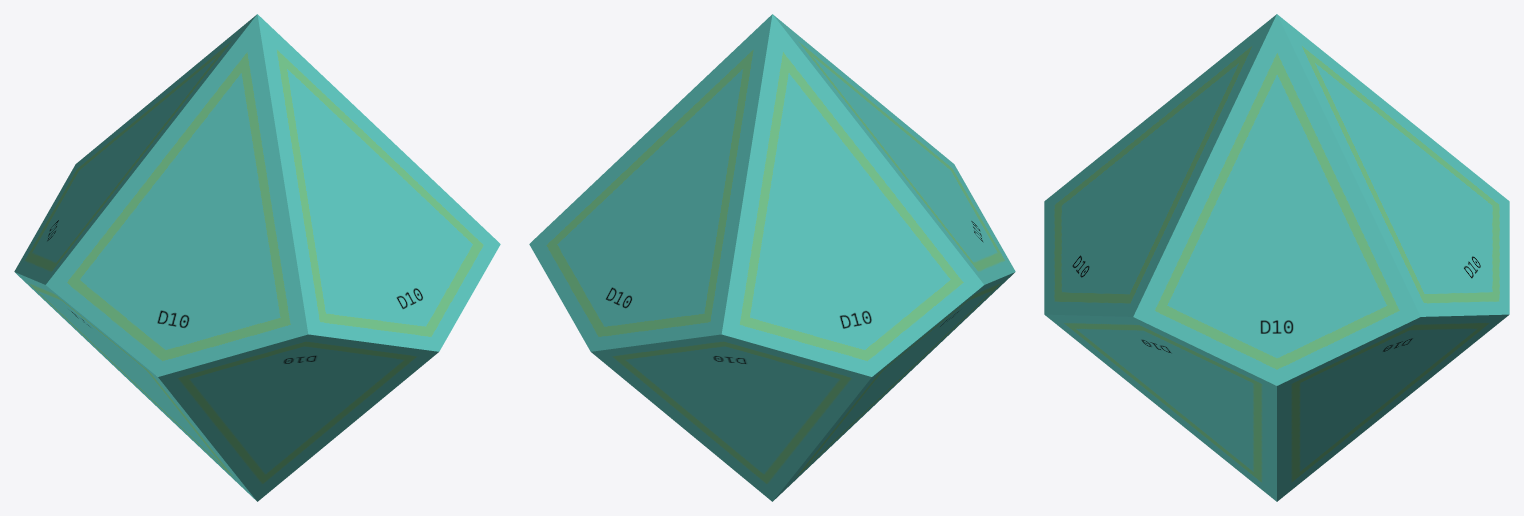
File: D10_Simple.obj
3 renders of one model, left to right at view 1: azimuth 30°, elevation 25°; view 2: azimuth 150°, elevation 25°; view 3: azimuth 270°, elevation 25°, orthographic.
Parts seen in each view (by area): view 1: D10_Simple; view 2: D10_Simple; view 3: D10_Simple.
Part boxes in pixels (x1,y1,x2,y2): D10_Simple: [14, 14, 500, 501]; D10_Simple: [529, 14, 1015, 501]; D10_Simple: [1044, 14, 1509, 501].
Bounding box in the file's own units: 2.86 × 3.15 × 2.72.
1 material, 1 textured.
